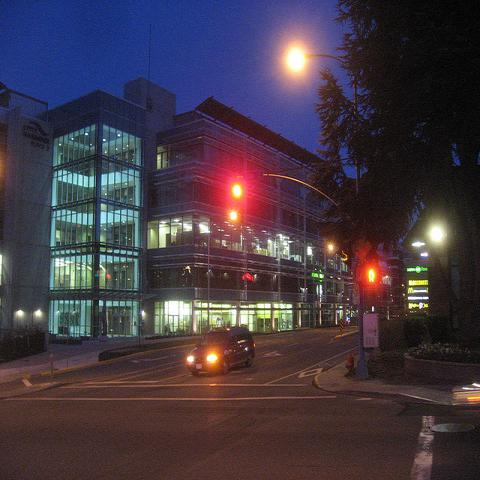car: (186, 327, 256, 375)
